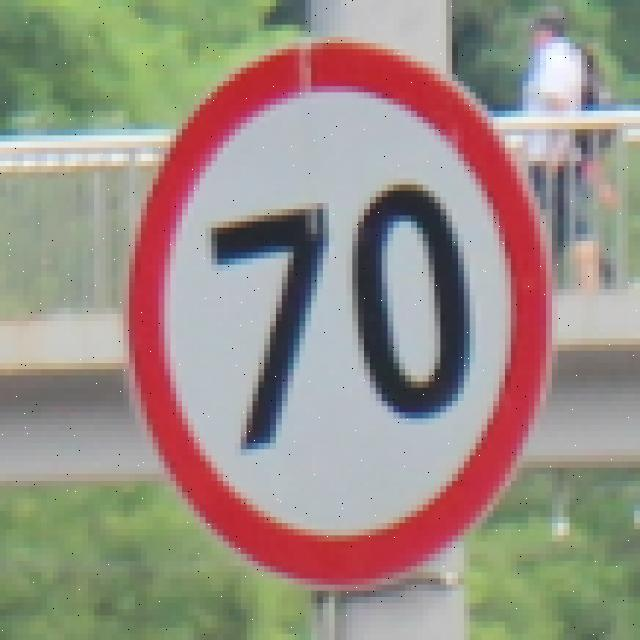speed limit 70: (130, 42, 553, 586)
